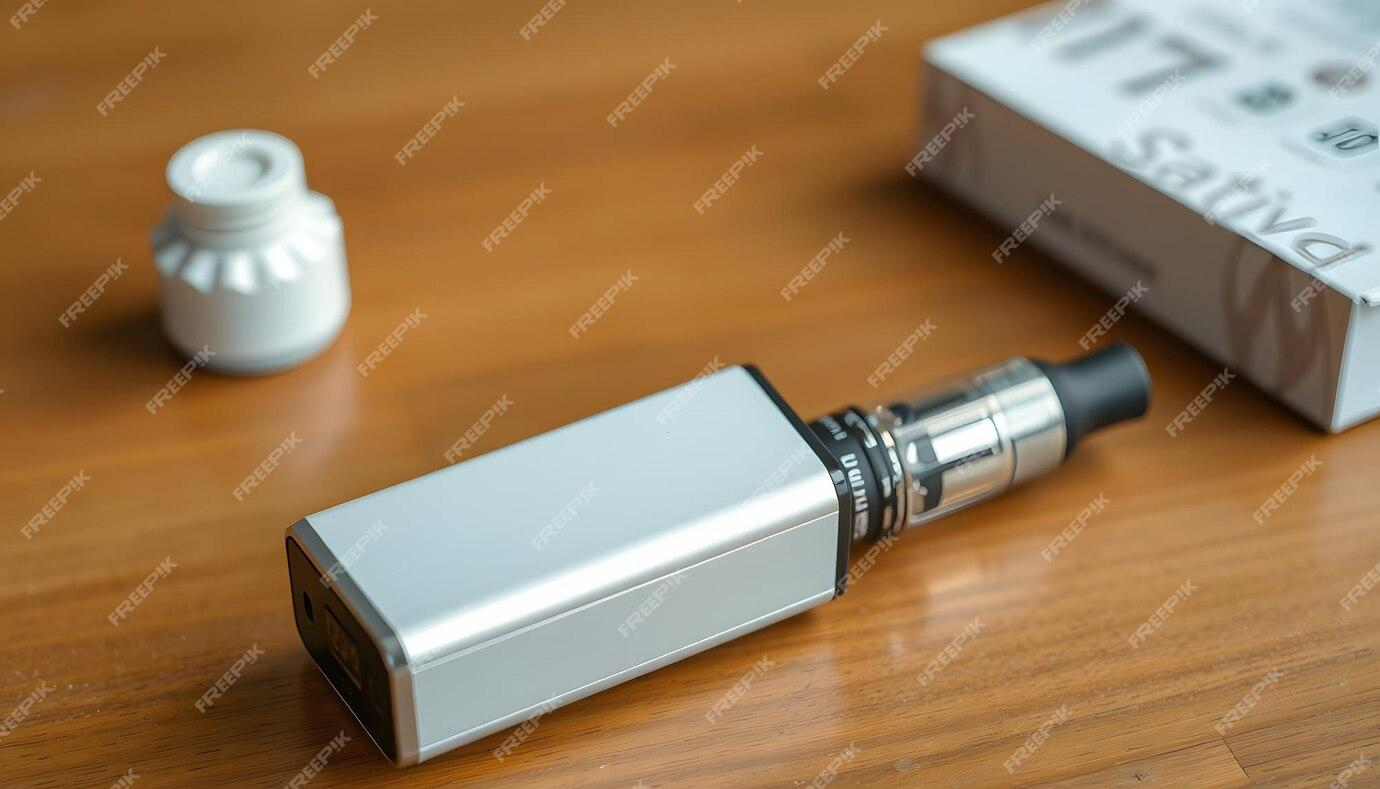Vape: (286, 344, 1150, 765)
